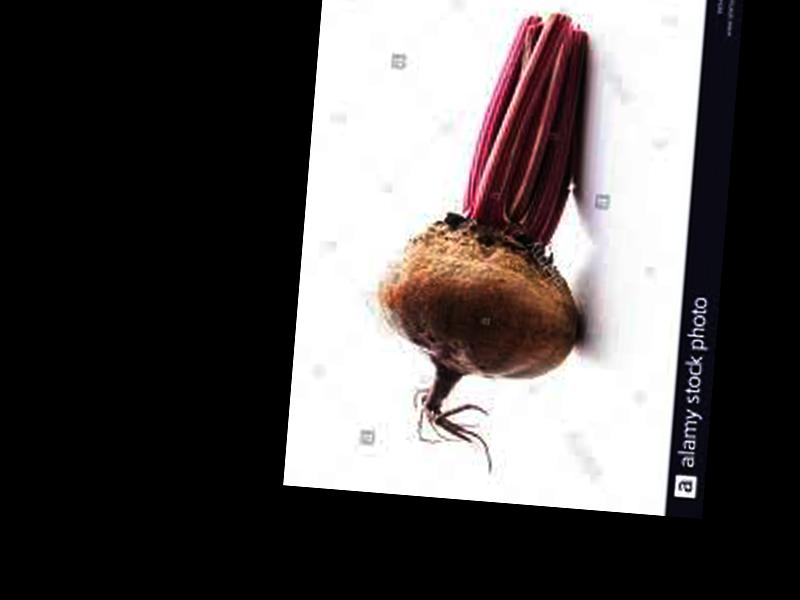Beet: (366, 1, 604, 479)
